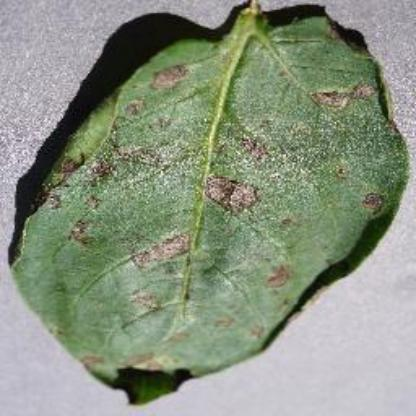Early-Blight: (13, 0, 409, 408)
